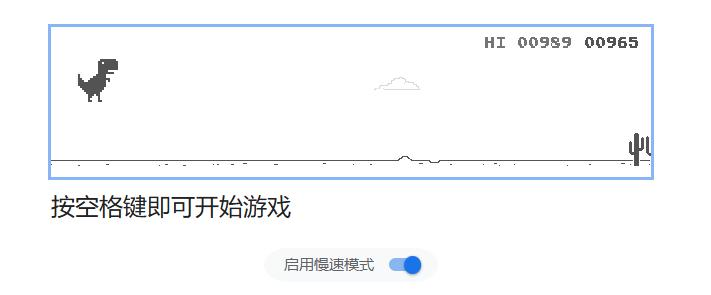cactus: (627, 131, 652, 167)
dino: (76, 57, 119, 103)
